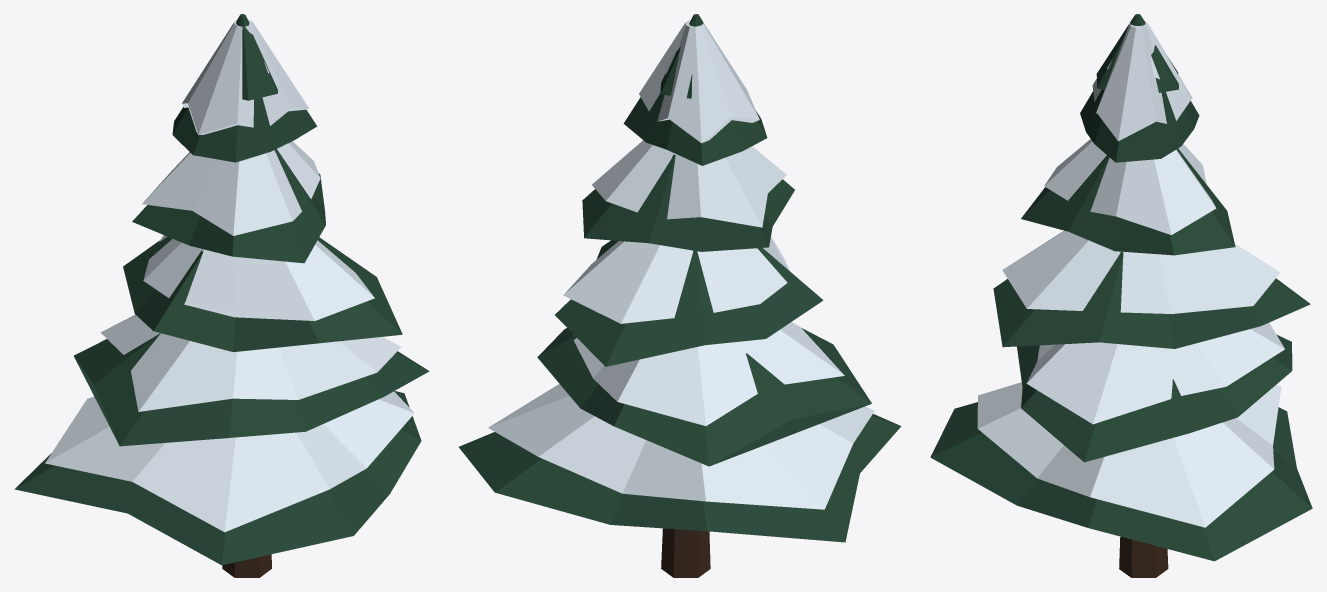
Rendered from Station_Pine_6_0_0.fbx.
The picture shows the model from 3 angles, left to right: view 1: azimuth 30°, elevation 25°; view 2: azimuth 150°, elevation 25°; view 3: azimuth 270°, elevation 25°; orthographic projection.
Parts seen in each view (by area): view 1: Station_Pine_6_0_0; view 2: Station_Pine_6_0_0; view 3: Station_Pine_6_0_0.
Boxes of the visible parts, left/top/right/bottom form: Station_Pine_6_0_0: left=14, top=14, right=429, bottom=577; Station_Pine_6_0_0: left=459, top=14, right=901, bottom=577; Station_Pine_6_0_0: left=930, top=14, right=1312, bottom=577.
Bounding box in the file's own units: 470 × 641 × 404.
